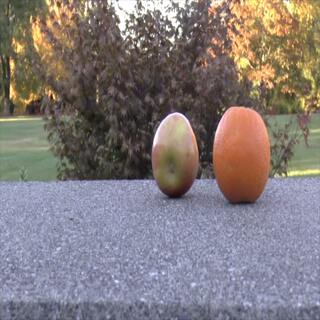apple: (148, 109, 202, 199)
orange: (211, 101, 274, 211)
